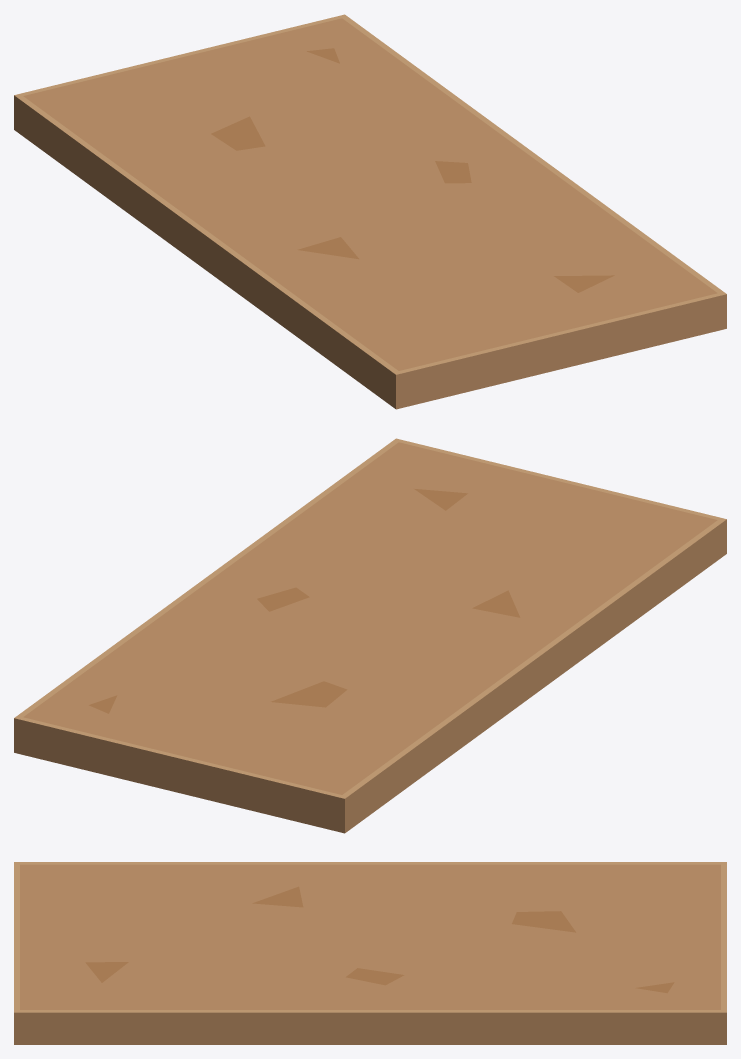
File: ConcrateSlabs_E_3_3.obj
3 views of the same model, one above another, from view 1: azimuth 30°, elevation 25°; view 2: azimuth 150°, elevation 25°; view 3: azimuth 270°, elevation 25° (orthographic). The views are drawn at different scales.
Parts seen in each view (by area): view 1: ConcrateSlabs_E_3_3; view 2: ConcrateSlabs_E_3_3; view 3: ConcrateSlabs_E_3_3.
Part boxes in pixels (x1,y1,x2,y2): ConcrateSlabs_E_3_3: (14,14,726,409); ConcrateSlabs_E_3_3: (14,438,726,833); ConcrateSlabs_E_3_3: (14,862,726,1044).
Size of the model in its own units: 4 by 0.4 by 8.
